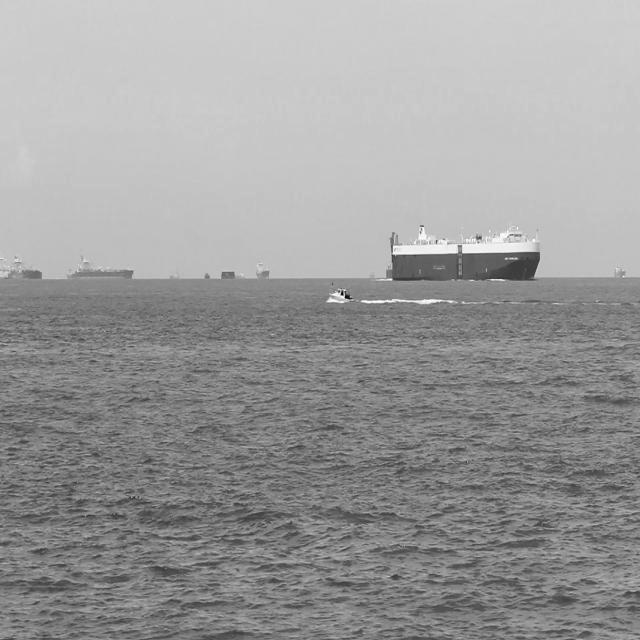ship: (386, 218, 544, 284), (61, 249, 136, 281), (0, 254, 47, 283), (325, 280, 358, 308), (252, 258, 272, 284), (610, 258, 626, 284), (384, 259, 392, 281)
